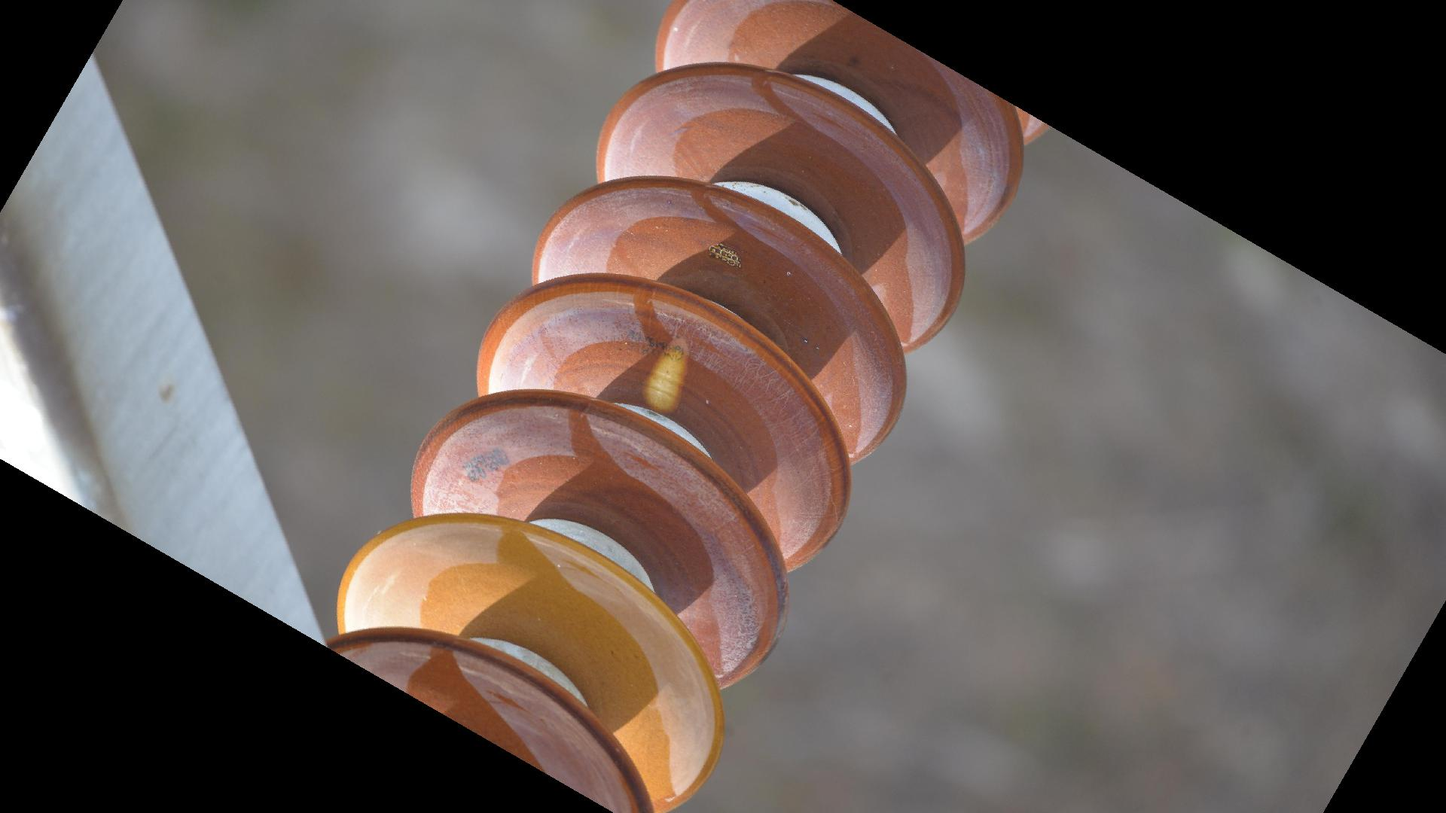insulator: (322, 1, 1052, 813)
insulator_flashover: (639, 334, 694, 414)
